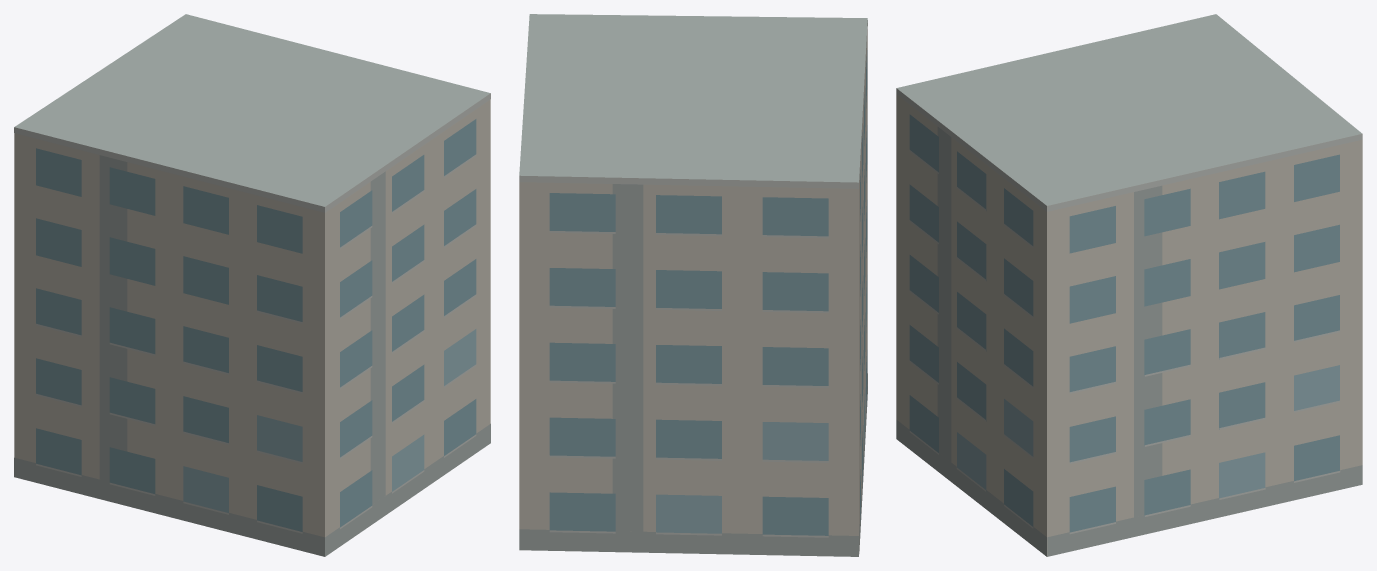
File: survey-upis-32887568.glb
3 views of the same model, side by side, from view 1: azimuth 30°, elevation 25°; view 2: azimuth 150°, elevation 25°; view 3: azimuth 270°, elevation 25° (orthographic). The views are drawn at different scales.
Parts seen in each view (by area): view 1: survey-upis-32887568.tmp; view 2: survey-upis-32887568.tmp; view 3: survey-upis-32887568.tmp.
Part boxes in pixels (<box>): survey-upis-32887568.tmp: <box>14,14,490,556</box>; survey-upis-32887568.tmp: <box>519,14,867,556</box>; survey-upis-32887568.tmp: <box>896,14,1362,556</box>.
Size of the model in its own units: 16.79 by 14.3 by 17.23.
